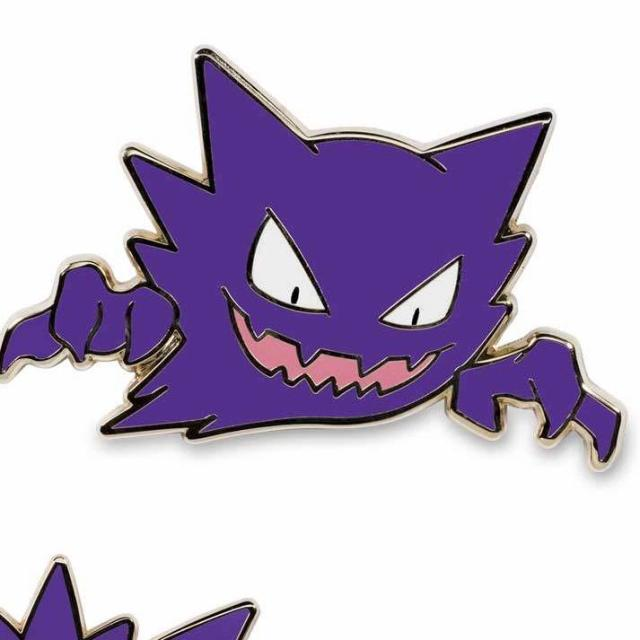Haunter: (10, 128, 636, 427)
